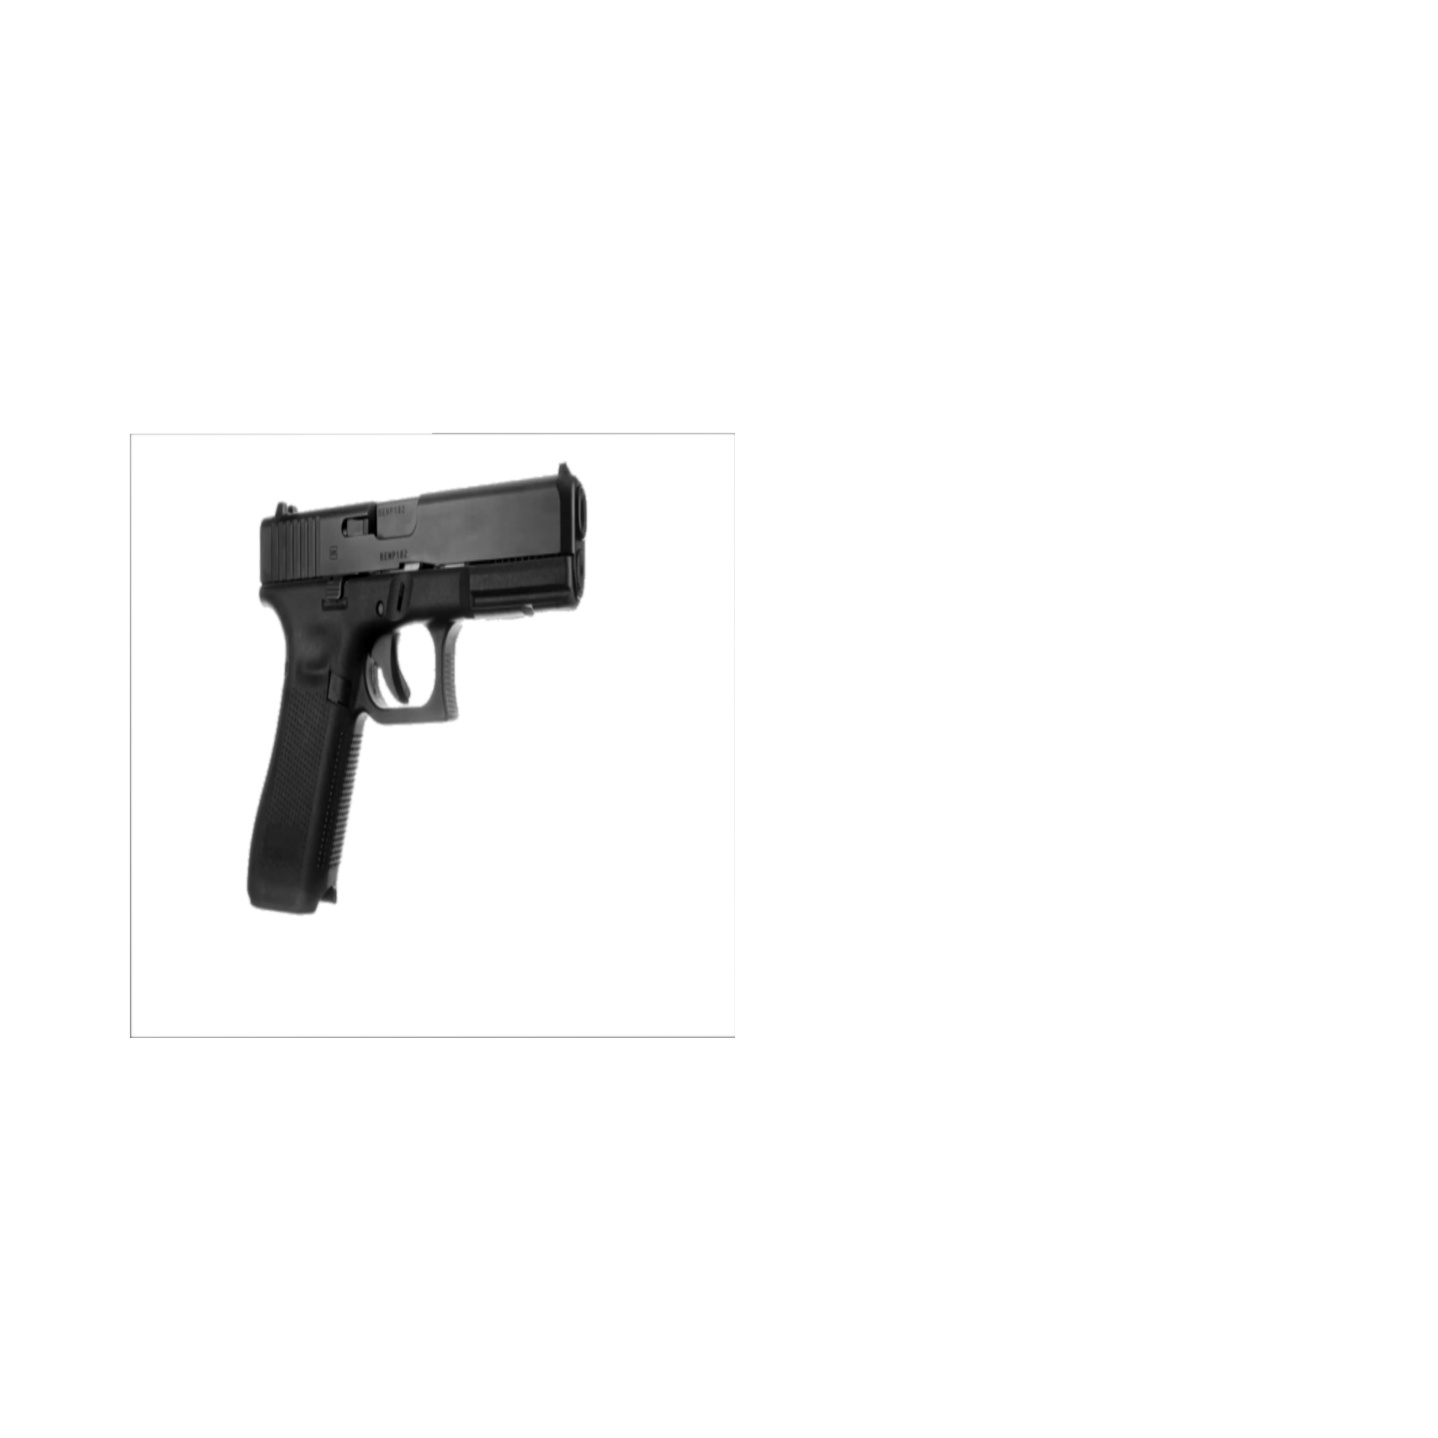gun: (246, 462, 590, 917)
